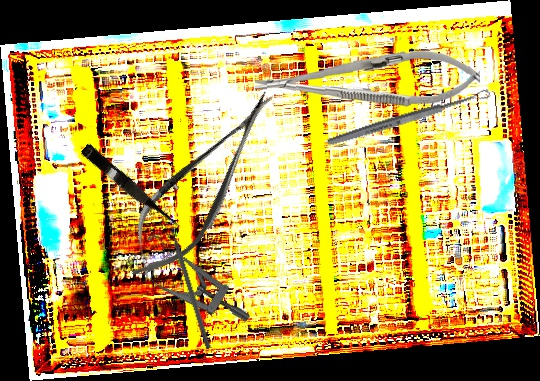Hook Surgical: (165, 217, 213, 350)
Micro Scissor: (106, 75, 299, 296), (78, 142, 185, 236)
Needle Holder: (254, 47, 481, 112)
Speculum: (120, 213, 252, 360)
Surgical Spoon: (325, 87, 492, 149)
